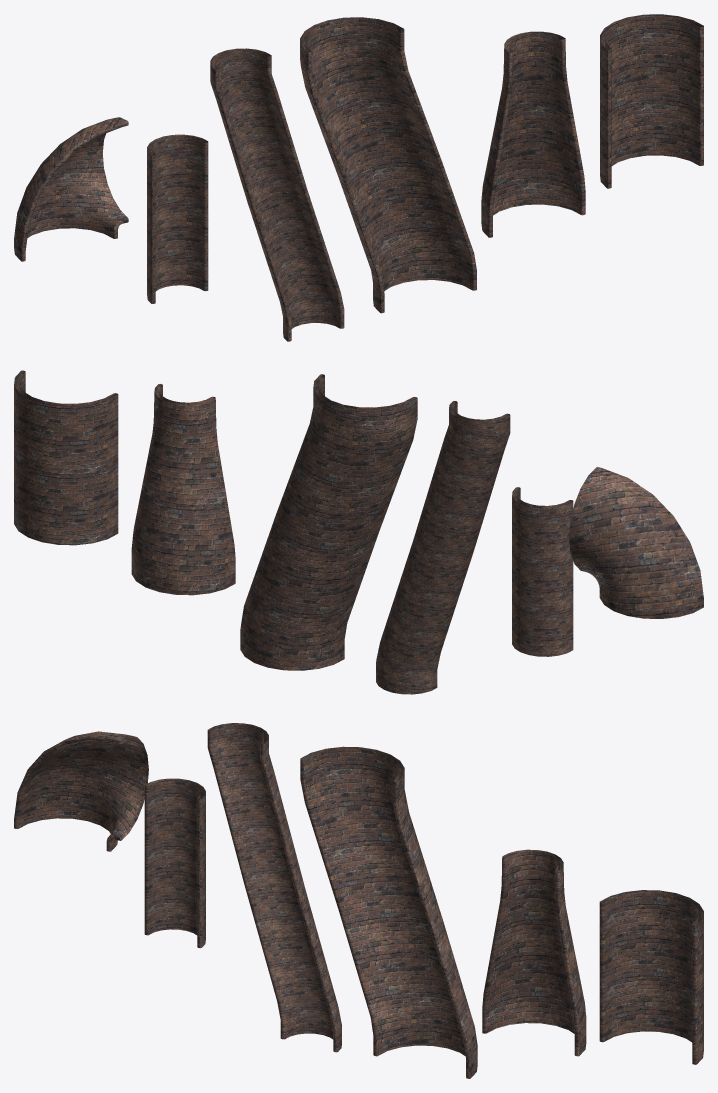
Rendered from pipes.fbx.
3 renders of one model, top to bottom at view 1: azimuth 30°, elevation 25°; view 2: azimuth 150°, elevation 25°; view 3: azimuth 330°, elevation 25°, orthographic.
Visible parts, largest first — view 1: pipe_side, pipe_small_side, pipe_normal, pipe_to_small, pipe_small_normal, pipe_turn; view 2: pipe_side, pipe_small_side, pipe_to_small, pipe_normal, pipe_turn, pipe_small_normal; view 3: pipe_side, pipe_small_side, pipe_normal, pipe_to_small, pipe_turn, pipe_small_normal.
Part boxes in pixels (x1,y1,x2,y2): pipe_side: [300, 17, 476, 313]; pipe_small_side: [210, 48, 344, 341]; pipe_normal: [600, 14, 703, 188]; pipe_to_small: [481, 31, 585, 237]; pipe_small_normal: [147, 134, 208, 303]; pipe_turn: [14, 117, 128, 261]; pipe_side: [240, 374, 417, 670]; pipe_small_side: [376, 401, 510, 694]; pipe_to_small: [131, 384, 235, 595]; pipe_normal: [14, 370, 118, 545]; pipe_turn: [569, 467, 703, 618]; pipe_small_normal: [512, 487, 573, 656]; pipe_side: [300, 746, 477, 1078]; pipe_small_side: [207, 723, 341, 1052]; pipe_normal: [599, 890, 703, 1064]; pipe_to_small: [482, 849, 586, 1056]; pipe_turn: [14, 731, 148, 851]; pipe_small_normal: [144, 778, 205, 948].
Bounding box in the file's own units: 626 × 254 × 46.2.
